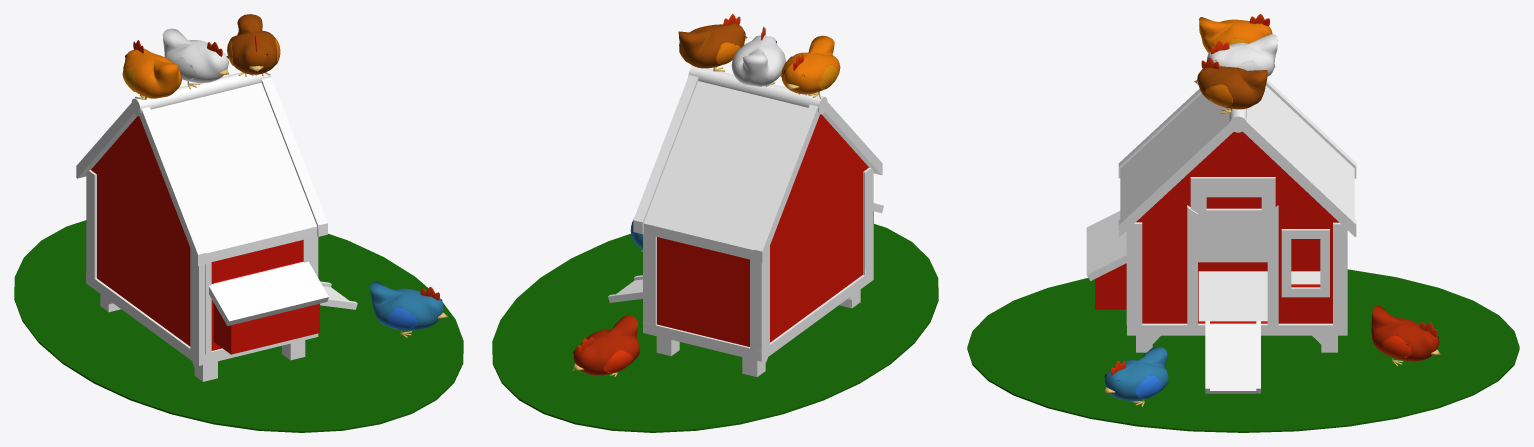
Rendered from brinkdu.gltf.
3 renders of one model, left to right at view 1: azimuth 30°, elevation 25°; view 2: azimuth 150°, elevation 25°; view 3: azimuth 270°, elevation 25°, orthographic. The views are drawn at different scales.
Visible parts, largest first — view 1: chao, paredes, telhado, Parte de baixo, galinha_azul, galinha_branca, galinha_laranja, galinha_marrom, rampinha; view 2: chao, paredes, telhado, Parte de baixo, galinha_vermelha, galinha_marrom, galinha_laranja, galinha_branca, rampinha; view 3: chao, paredes, telhado, Parte de baixo, rampinha, galinha_vermelha, galinha_marrom, galinha_azul, galinha_branca, galinha_laranja.
Boxes of the visible parts, bbox=[...] form: chao: bbox=[14, 220, 463, 432]; paredes: bbox=[86, 116, 328, 355]; telhado: bbox=[76, 70, 327, 266]; Parte de baixo: bbox=[86, 273, 318, 381]; galinha_azul: bbox=[370, 281, 447, 337]; galinha_branca: bbox=[162, 28, 229, 89]; galinha_laranja: bbox=[122, 40, 181, 99]; galinha_marrom: bbox=[227, 14, 280, 76]; rampinha: bbox=[320, 281, 357, 309]; chao: bbox=[492, 224, 938, 432]; paredes: bbox=[643, 114, 883, 351]; telhado: bbox=[633, 66, 882, 263]; Parte de baixo: bbox=[643, 269, 873, 376]; galinha_vermelha: bbox=[572, 315, 639, 376]; galinha_marrom: bbox=[678, 14, 747, 71]; galinha_laranja: bbox=[780, 35, 840, 98]; galinha_branca: bbox=[731, 26, 785, 86]; rampinha: bbox=[608, 275, 642, 302]; chao: bbox=[967, 269, 1519, 432]; paredes: bbox=[1086, 131, 1347, 331]; telhado: bbox=[1118, 79, 1356, 236]; Parte de baixo: bbox=[1127, 271, 1347, 352]; rampinha: bbox=[1205, 321, 1260, 393]; galinha_vermelha: bbox=[1371, 305, 1440, 366]; galinha_marrom: bbox=[1194, 57, 1267, 113]; galinha_azul: bbox=[1104, 346, 1168, 406]; galinha_branca: bbox=[1206, 34, 1277, 76]; galinha_laranja: bbox=[1199, 14, 1278, 52].
Bounding box in the file's own units: 4.53 × 3.66 × 6.28.
